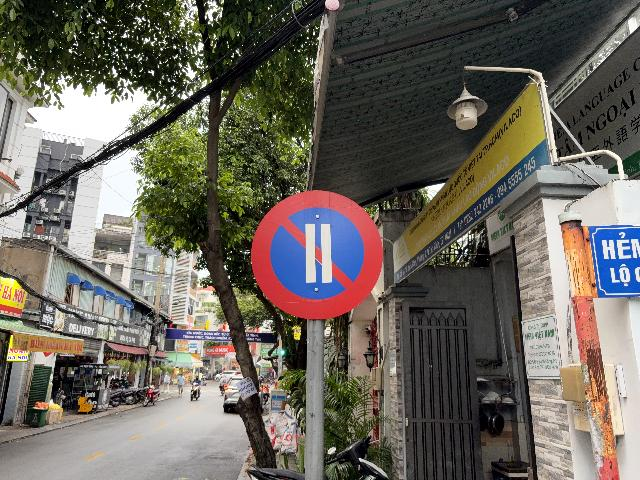cam-do-xe-ngay-chan: (250, 188, 385, 319)
